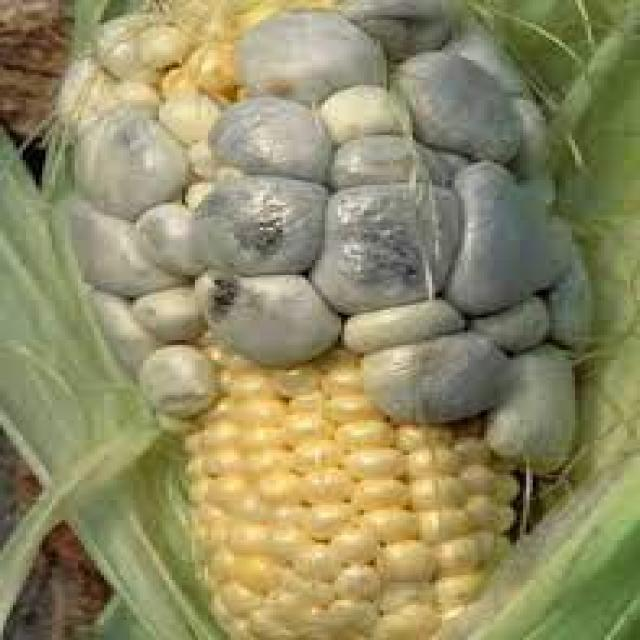Leaf_Scald: (11, 2, 640, 639)
